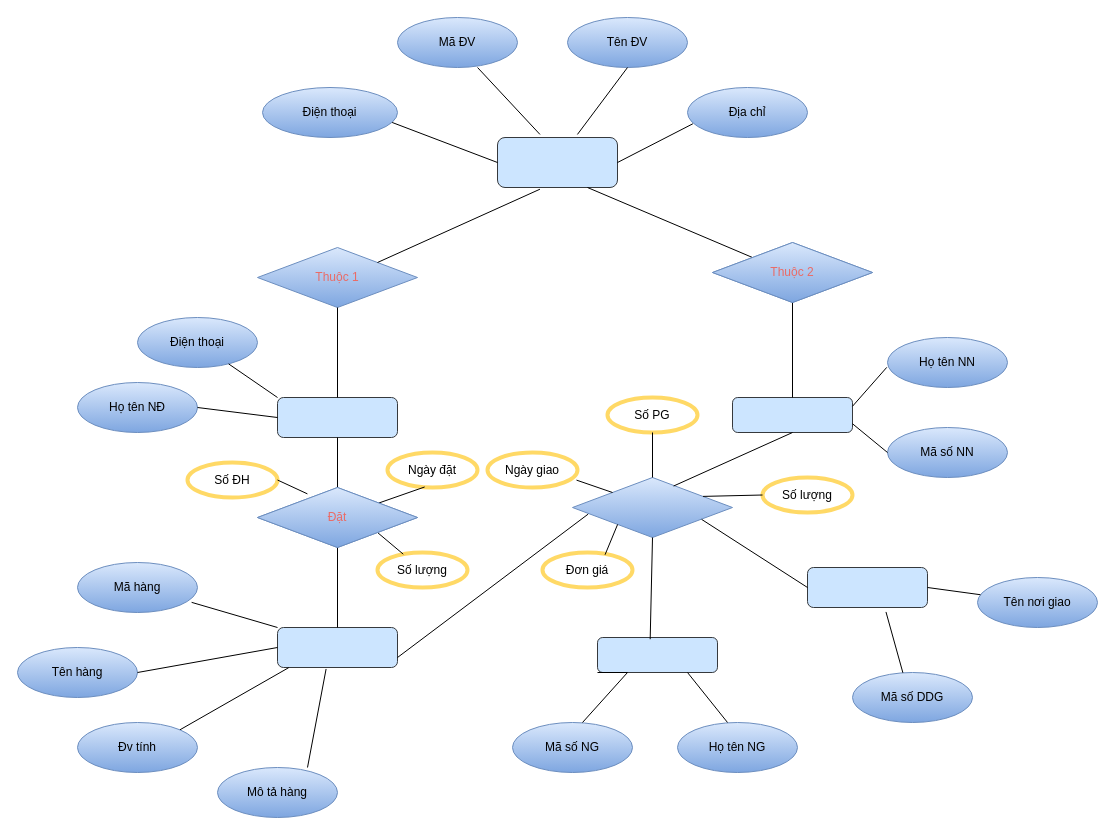
This 1115x835 diagram has some shape labels left out. Here are the shapes that lost their labels. From the top down, the centre of each, then its label:
pixel 557 162: ĐV KHACH
pixel 337 417: NGƯỜI ĐẶT
pixel 792 414: NGƯỜI NHẬN
pixel 652 507: Giao
pixel 867 587: NƠI GIAO
pixel 337 647: HÀNG
pixel 657 654: NGƯỜI GIAO
